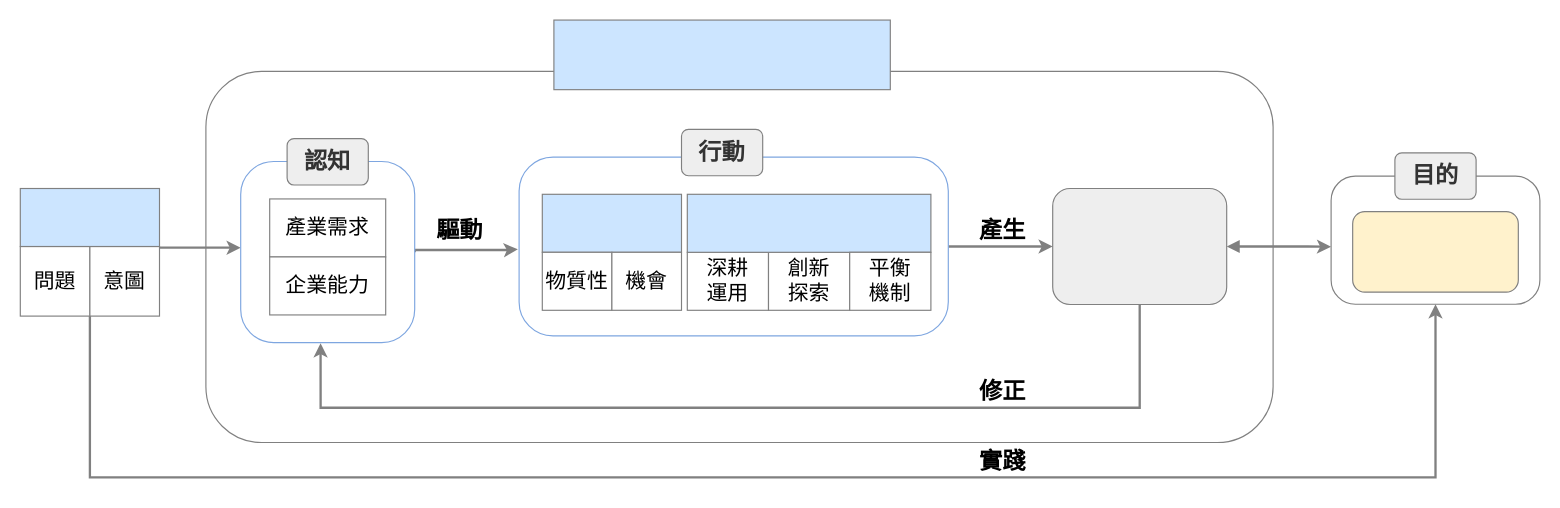
This 1560x508 diagram has some shape labels left out. The shapes that lost their labels are listed below. From the top down, each one's box as (x1, y1, x2, y2) in pixels, then its label:
(553, 19, 890, 90): 科技可供性制定
(19, 187, 160, 246): 能動性
(541, 193, 682, 252): 探索 可供性
(686, 193, 931, 252): 雙元 可供性實現
(1052, 187, 1227, 304): 階段性 數位創新 結果
(1352, 210, 1518, 292): 數位創新 產業生態系
